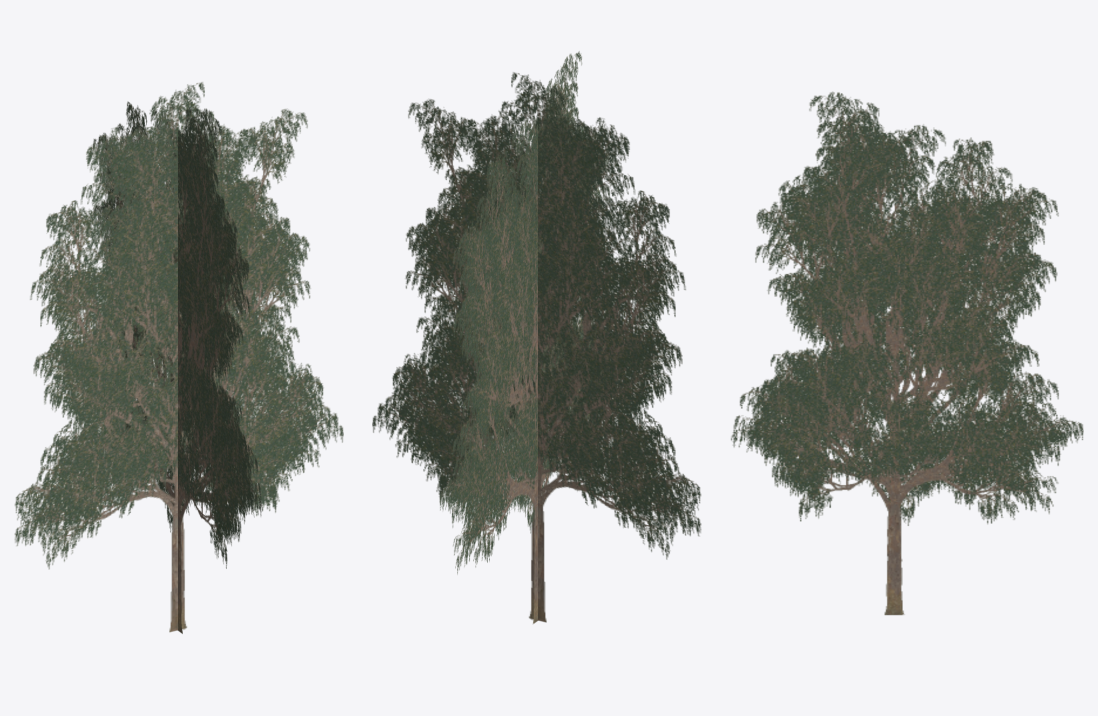
The model's file is EucalyptusGlobulus.glb.
3 views of the same model, side by side, from view 1: azimuth 30°, elevation 25°; view 2: azimuth 150°, elevation 25°; view 3: azimuth 270°, elevation 25° (orthographic). The views are drawn at different scales.
Visible parts, largest first — view 1: mesh__mat_billboard_6; view 2: mesh__mat_billboard_6; view 3: mesh__mat_billboard_6.
Boxes of the visible parts, x1,y1,x2,y2 form: mesh__mat_billboard_6: [14, 82, 343, 633]; mesh__mat_billboard_6: [372, 51, 701, 623]; mesh__mat_billboard_6: [731, 91, 1083, 615].
Size of the model in its own units: 15.67 by 25.14 by 15.12.
Materials: 1 (1 with a texture image).
